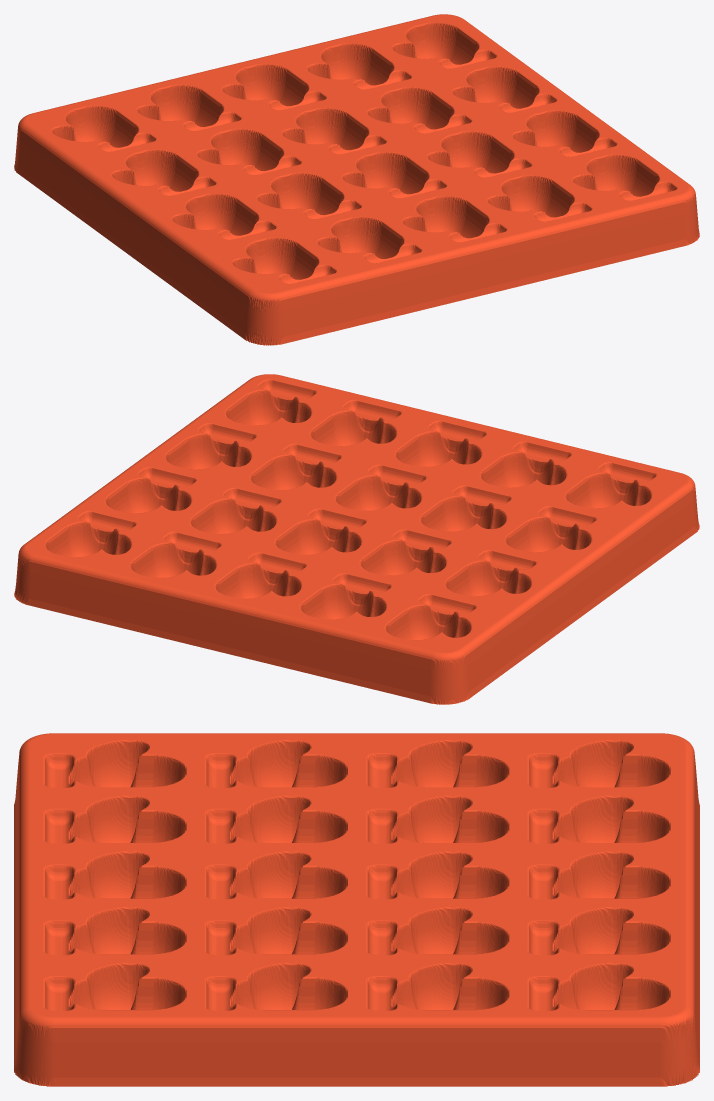
File: mold.glb
3 views of the same model, one above another, from view 1: azimuth 30°, elevation 25°; view 2: azimuth 150°, elevation 25°; view 3: azimuth 270°, elevation 25° (orthographic). The views are drawn at different scales.
Parts seen in each view (by area): view 1: geometry_0; view 2: geometry_0; view 3: geometry_0.
Boxes of the visible parts, x1,y1,x2,y2 form: geometry_0: [14, 14, 699, 345]; geometry_0: [14, 374, 699, 704]; geometry_0: [14, 733, 699, 1086].
Bounding box in the file's own units: 0.1595 × 0.0159 × 0.1563.
